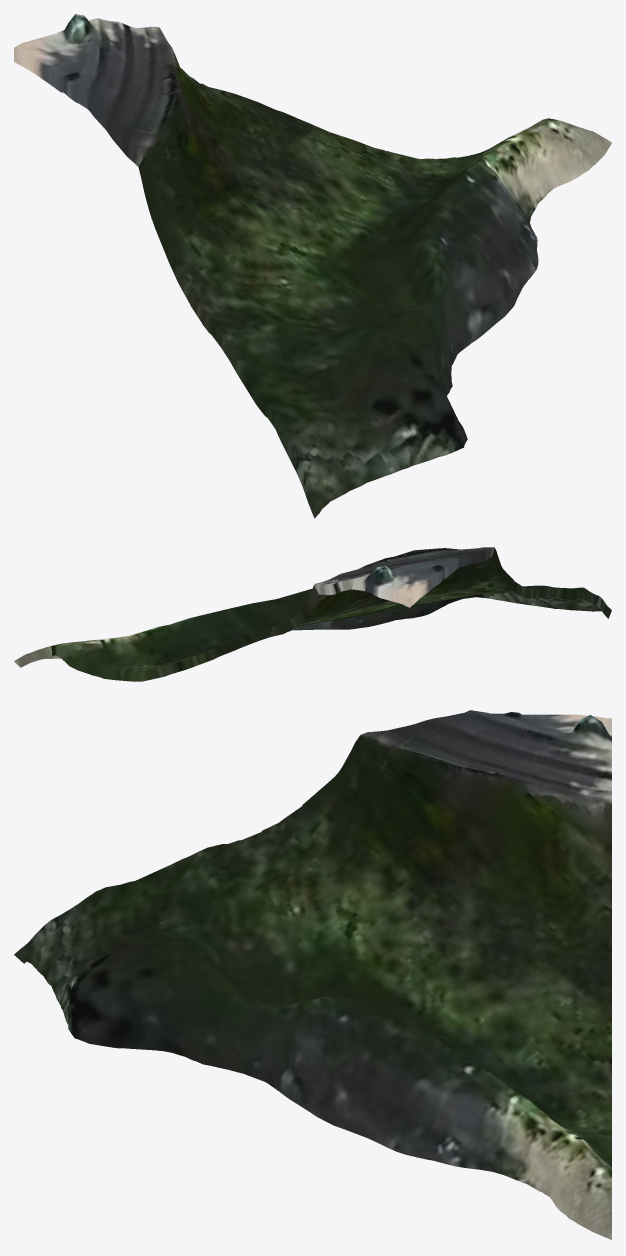
File: z20-167755-405192-h1-yup-uvflip-v3-world.glb
3 renders of one model, top to bottom at view 1: azimuth 30°, elevation 25°; view 2: azimuth 150°, elevation 25°; view 3: azimuth 270°, elevation 25°, orthographic. The views are drawn at different scales.
Bounding box in the file's own units: 26.52 × 11.8 × 23.48.
1 material, 1 textured.
